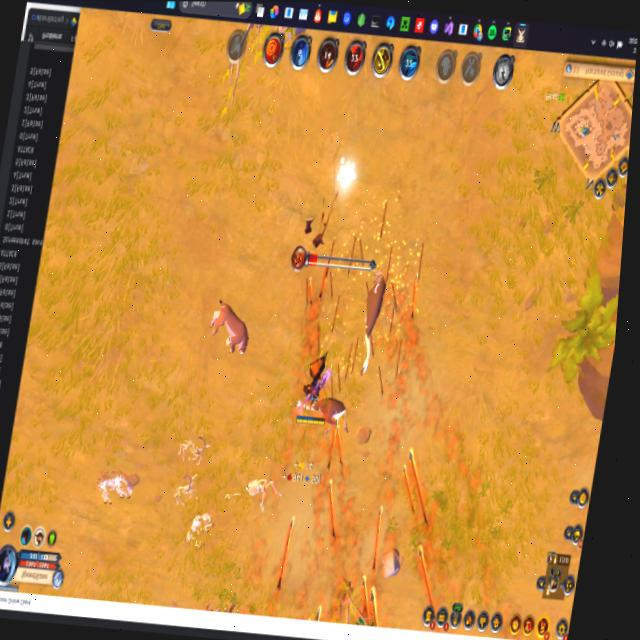mob: (286, 392, 357, 445), (200, 295, 257, 361)
ore: (349, 268, 394, 381)
red: (292, 348, 337, 430)
stone: (331, 155, 361, 195)
